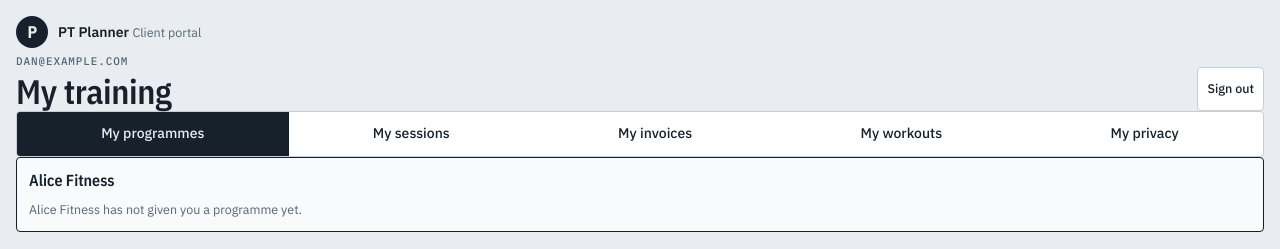
Test: the client’s invoices › a paid invoice shows as paid with no payment details
The image size is (1280, 249).
Click the tab "My invoices" at [655, 134], box [534, 112, 776, 156]
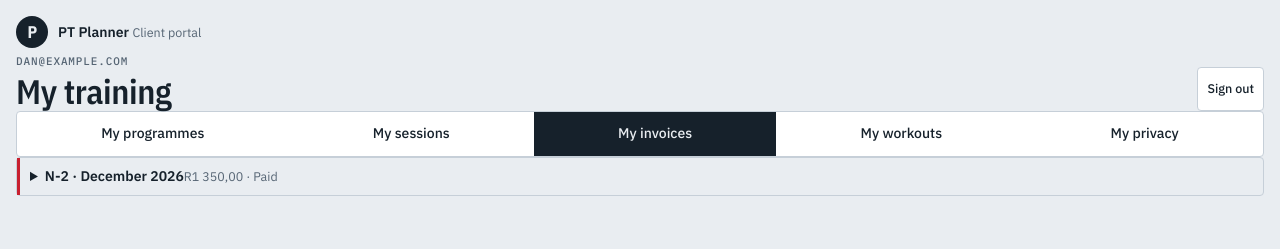
Check: the text "R1 350,00 · Paid" is shown, box [184, 168, 278, 184]
